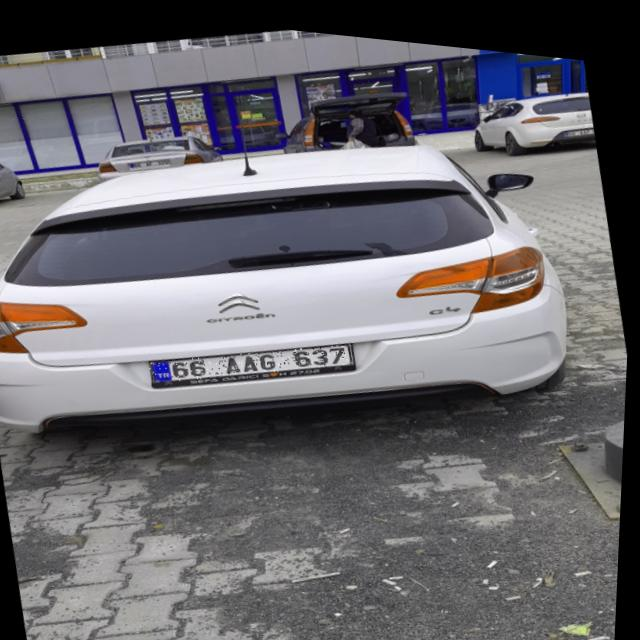license_plate: (151, 319, 357, 396)
